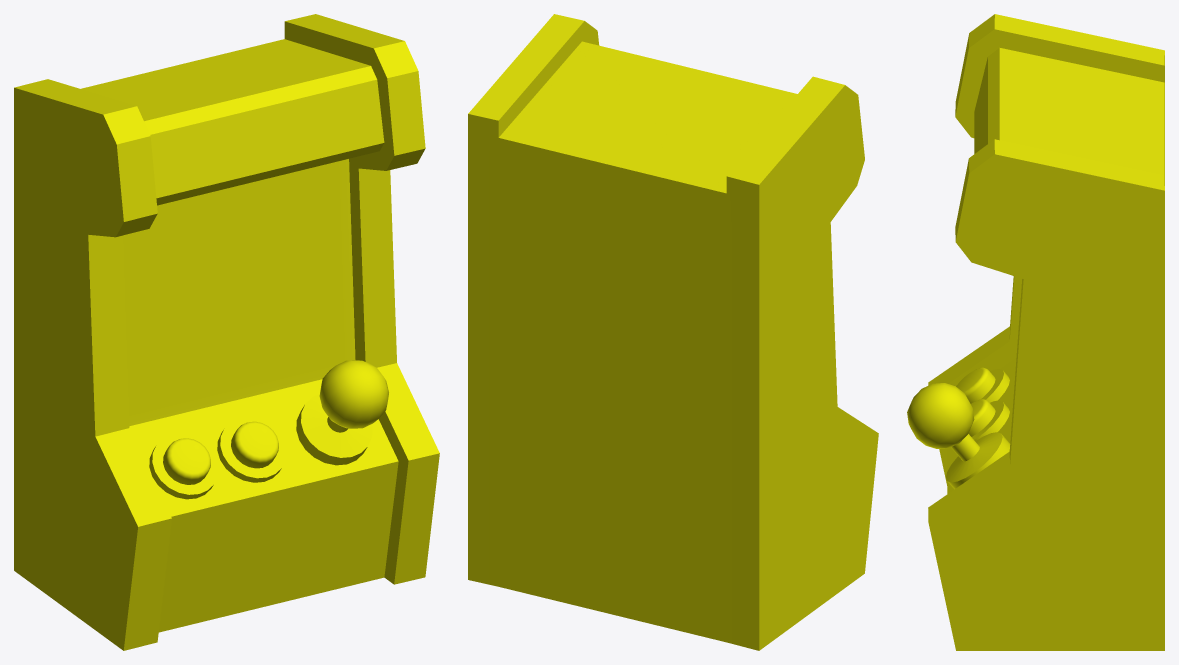
3 views of the same model, side by side, from view 1: azimuth 30°, elevation 25°; view 2: azimuth 150°, elevation 25°; view 3: azimuth 270°, elevation 25° (orthographic). The views are drawn at different scales.
Parts seen in each view (by area): view 1: ArcadeMachine; view 2: ArcadeMachine; view 3: ArcadeMachine.
Part boxes in pixels (<box>): ArcadeMachine: <box>14,14,439,650</box>; ArcadeMachine: <box>468,14,878,650</box>; ArcadeMachine: <box>907,14,1164,650</box>.
Bounding box in the file's own units: 0.0112 × 0.0185 × 0.00869.
1 material, 1 textured.
